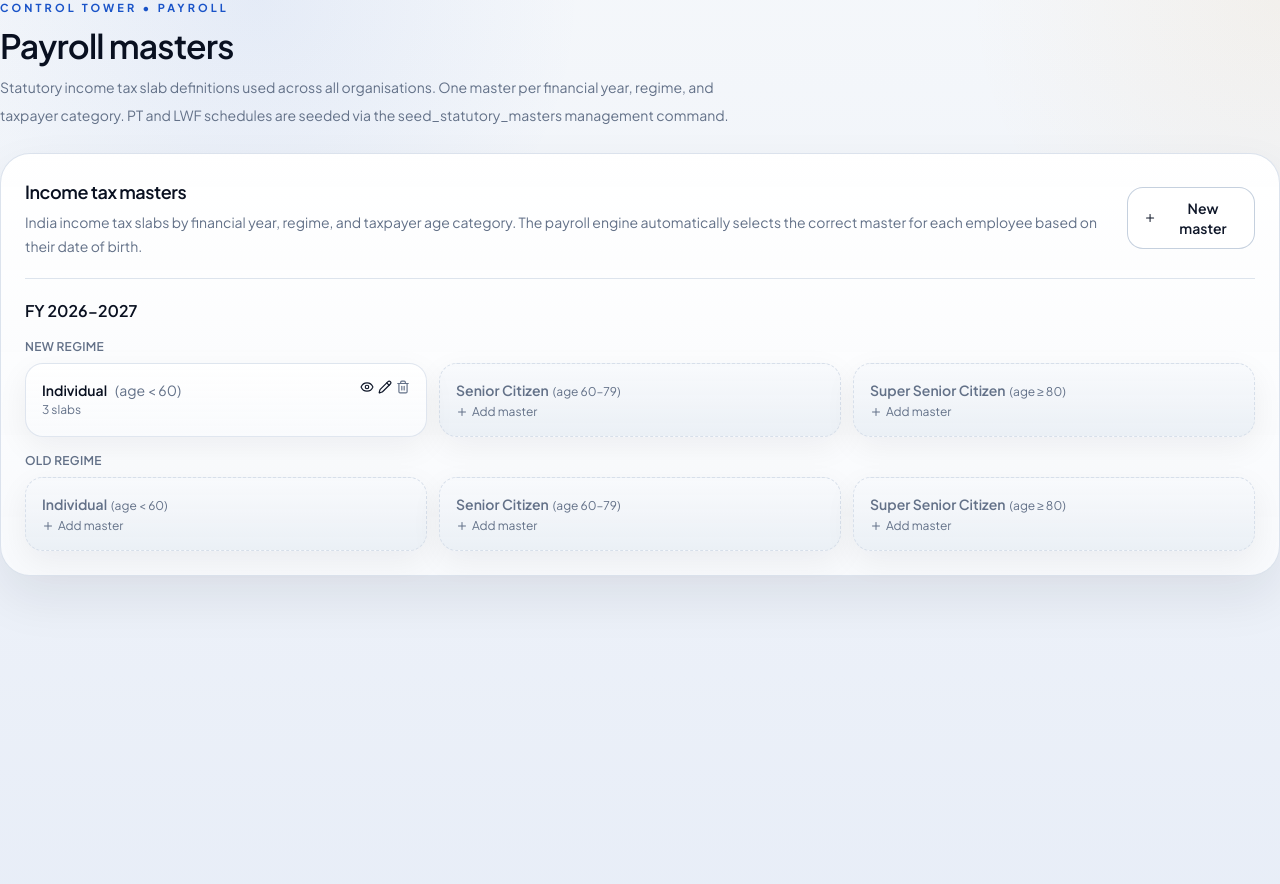
PayrollMastersPage › opens the edit form when the pencil button is clicked
Step 1. Click the button named "Edit slabs" → (385, 387), box [378,380,392,394]
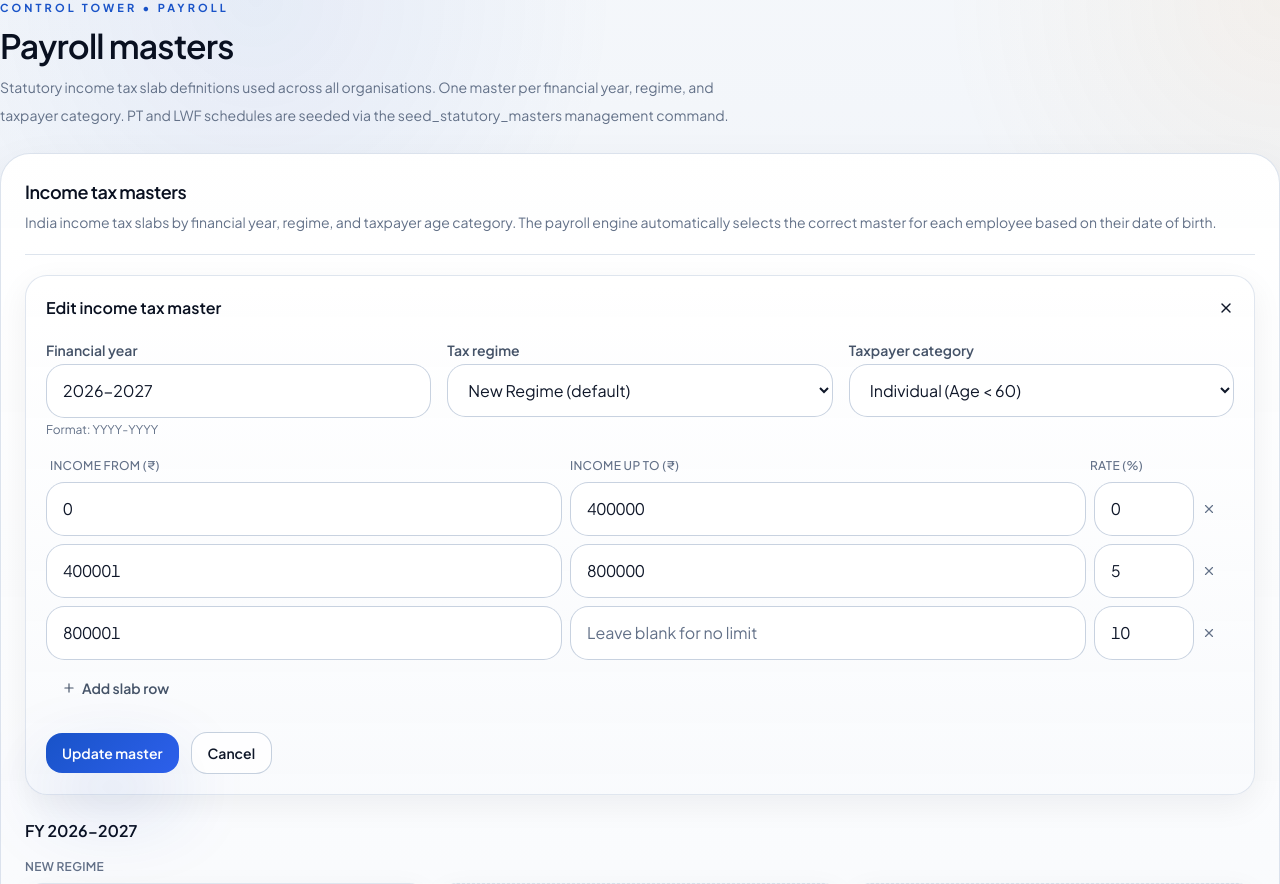
expect the text "Edit income tax master" is shown: met, box [46,296,221,320]
